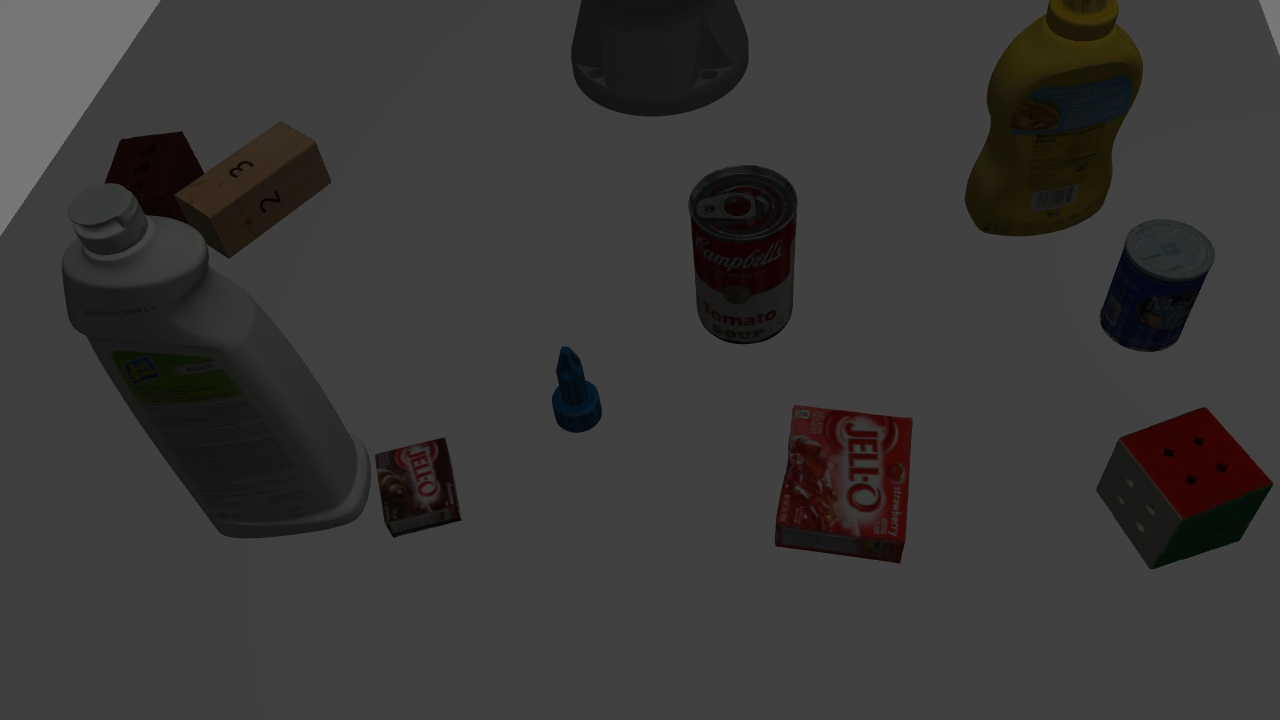gelatin_box: (776, 395, 912, 570)
master_chef_can: (1102, 206, 1210, 362)
mustard_bottle: (961, 8, 1144, 237)
pudding_box: (369, 438, 469, 540)
rubiks_cube: (1091, 399, 1264, 577)
tomato_soup_can: (689, 162, 796, 343)
wood_block: (175, 110, 352, 252)
